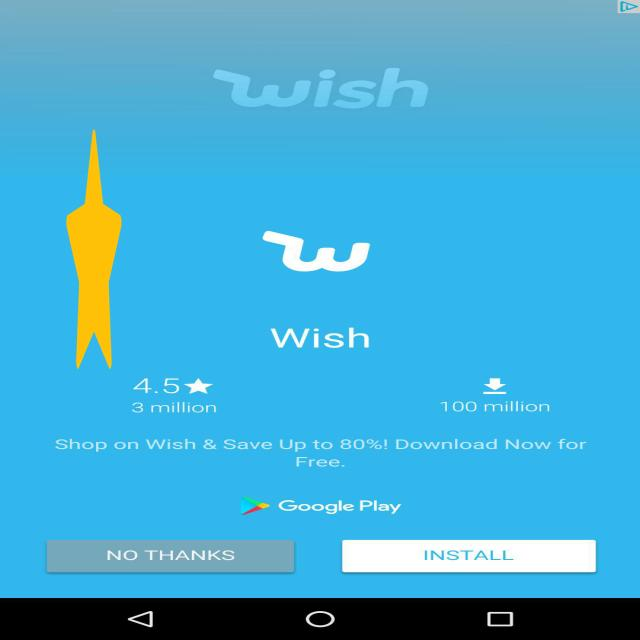forced continuity: (66, 129, 122, 369)
